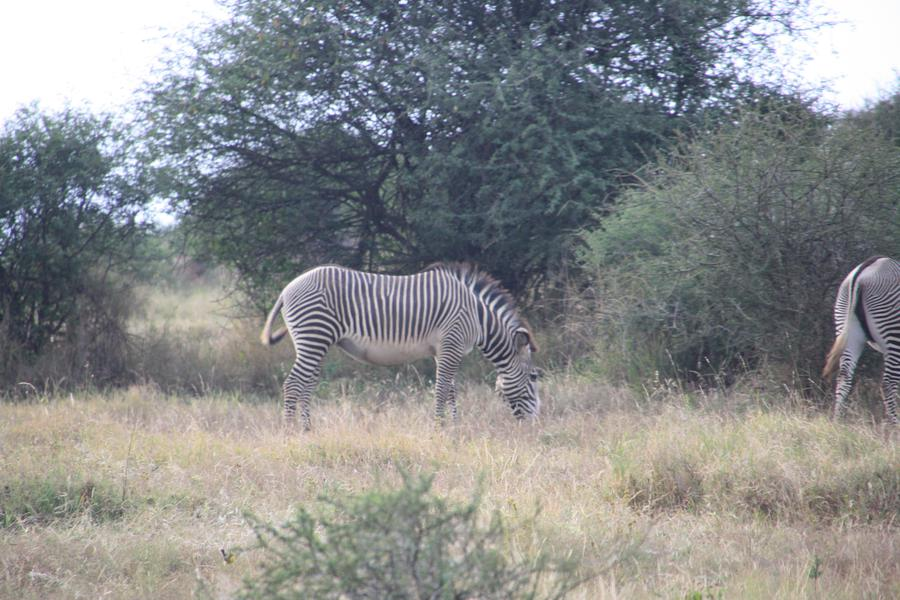zebra_grevys: (277, 250, 462, 367)
